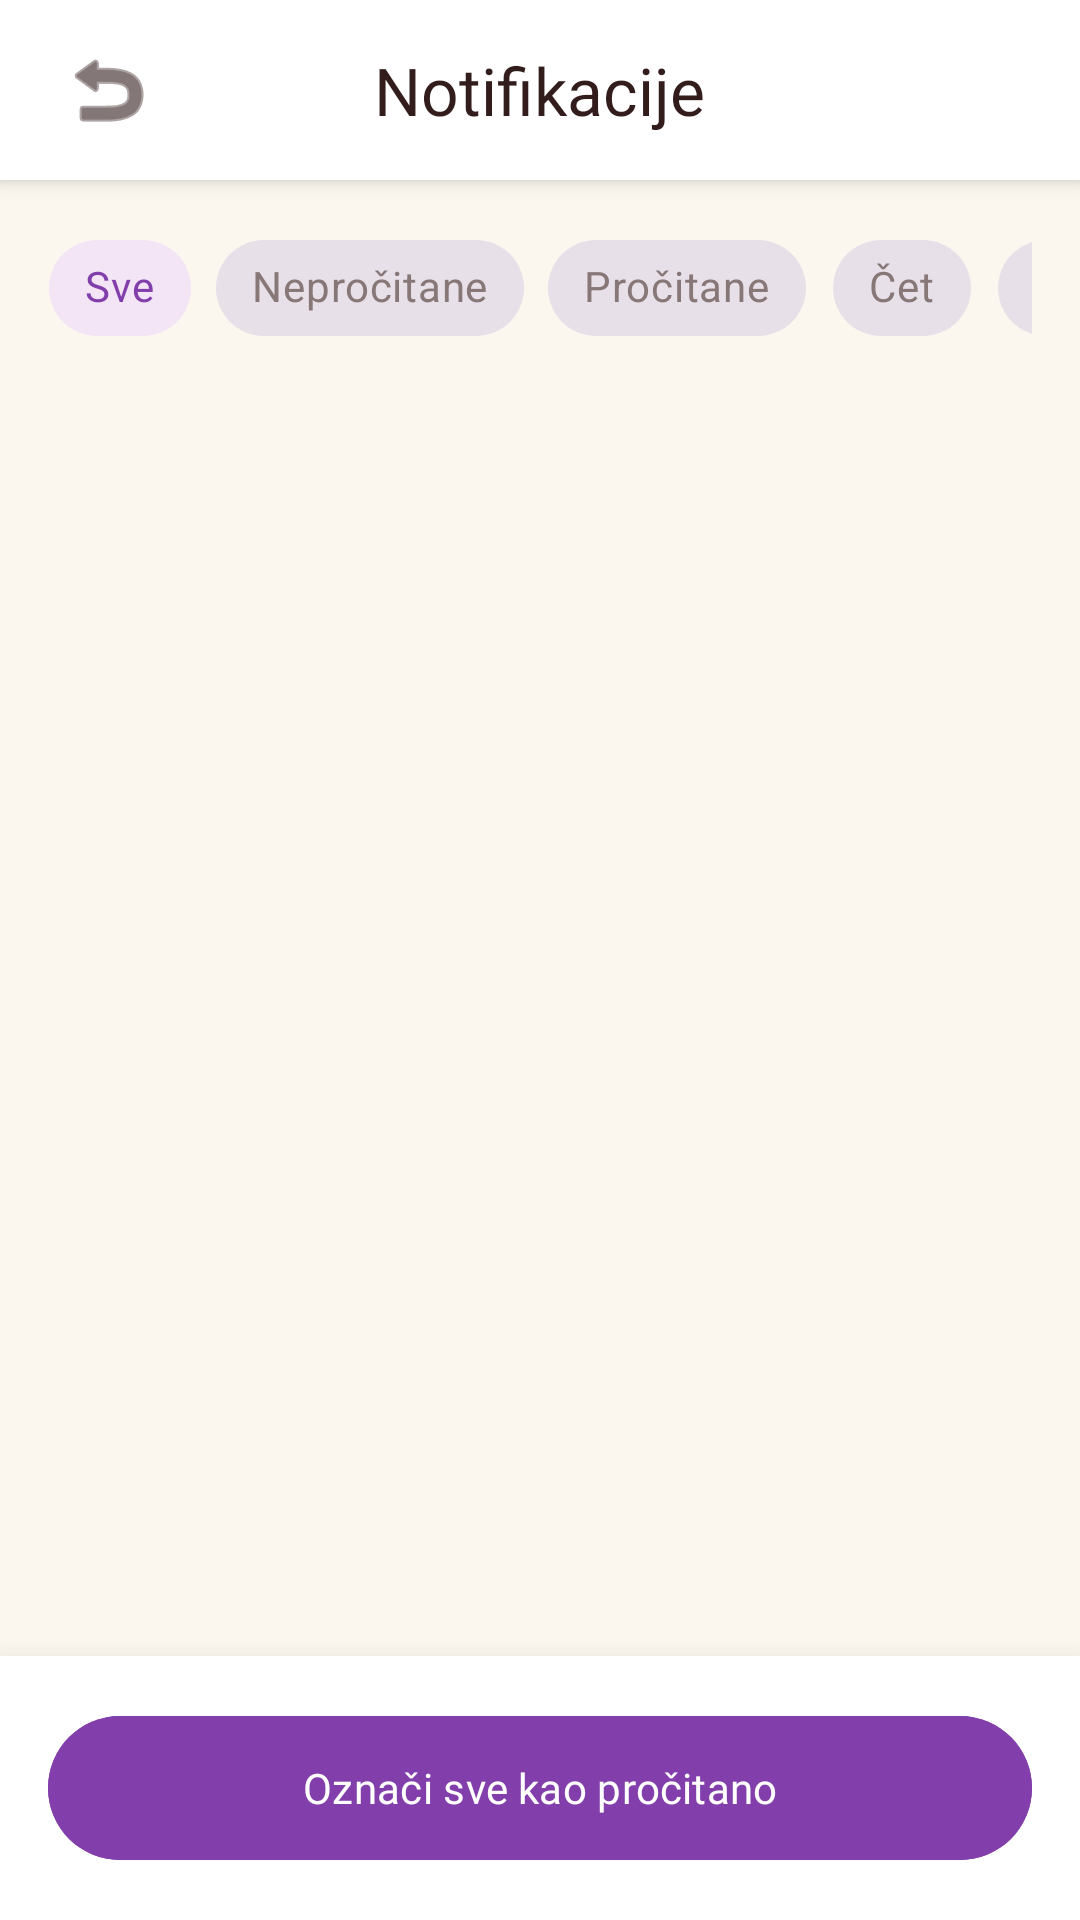

Icon click points for this 1080*1920 phone screenshot, format (x=x, y=y):
Nazad: (x=109, y=90)
